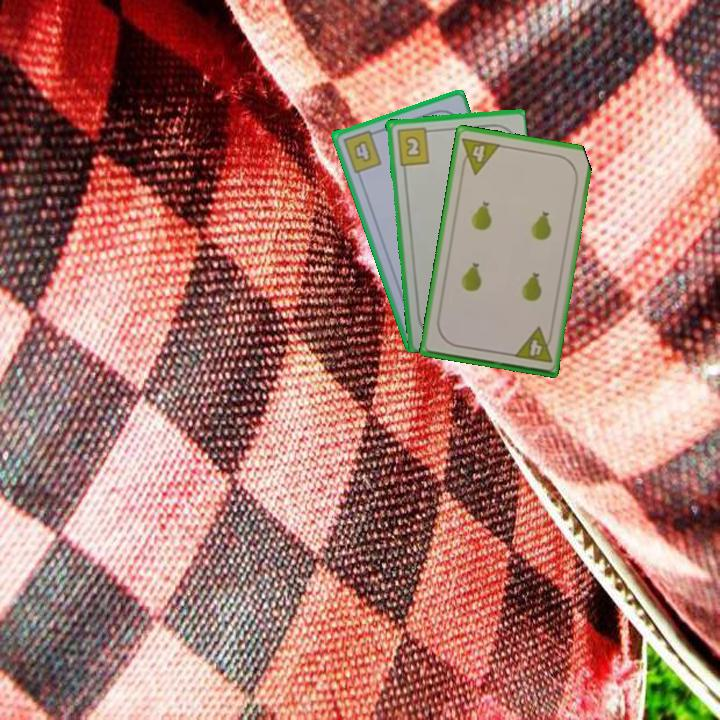2b: (393, 123, 435, 168)
4b: (339, 126, 384, 175)
4p: (457, 134, 503, 177), (510, 324, 555, 366)
